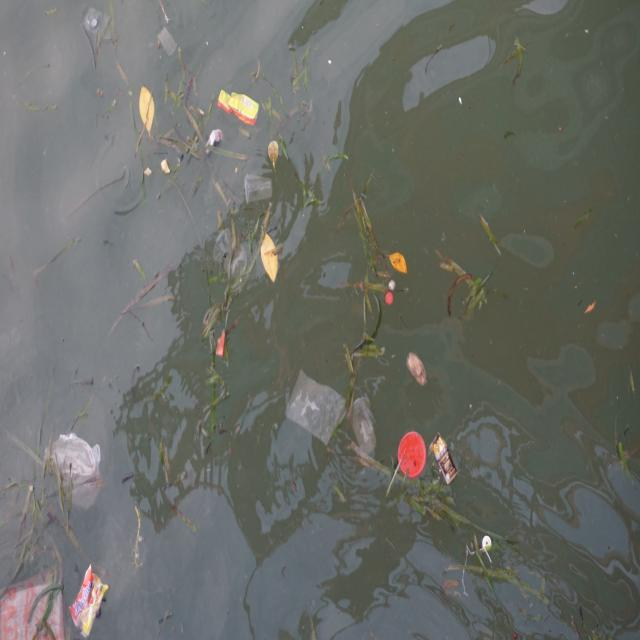Bungkus Makanan: (71, 558, 112, 638), (216, 88, 262, 131)
Bungkus Minuman: (351, 396, 379, 457), (244, 168, 275, 207)
Kantong Plastik: (46, 430, 111, 520), (285, 366, 349, 451), (1, 562, 69, 640)
